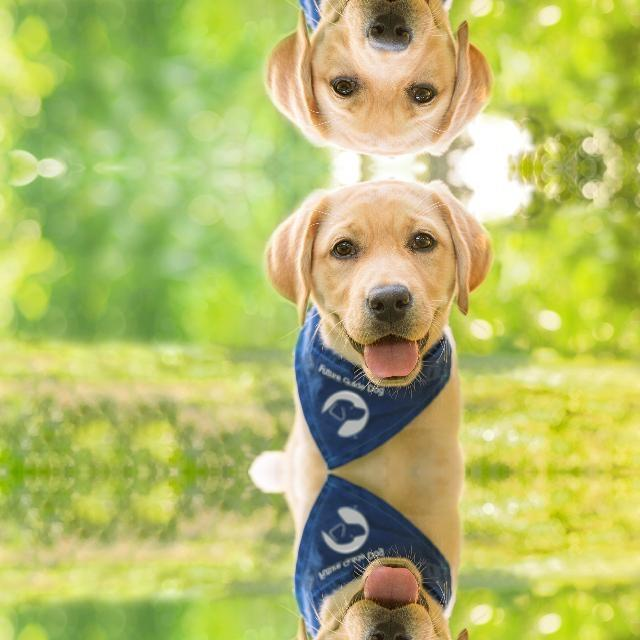dog: (266, 170, 497, 394), (265, 0, 496, 164), (265, 549, 496, 640)
